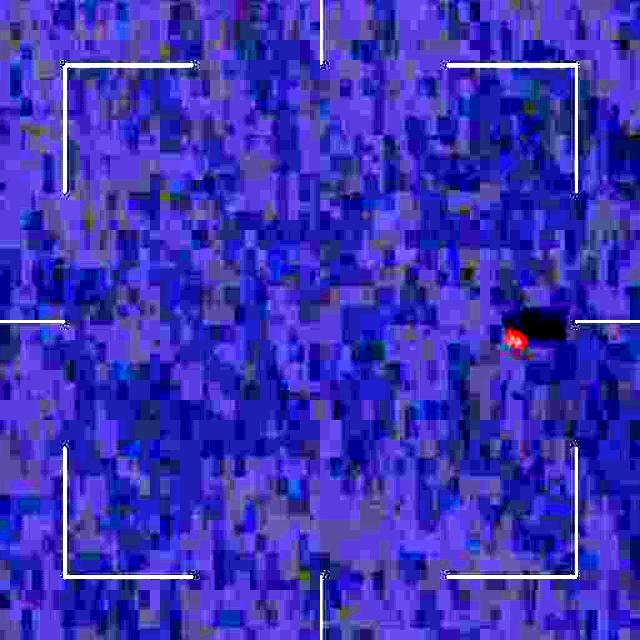bird: (504, 320, 525, 356)
